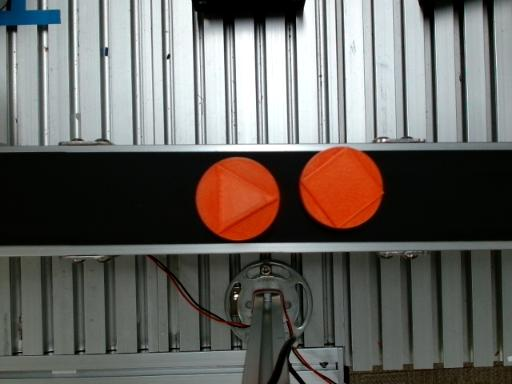Not_Square: (217, 162, 280, 236)
Orange_Waper: (196, 157, 280, 241), (300, 148, 383, 229)
Square: (302, 146, 384, 228)
